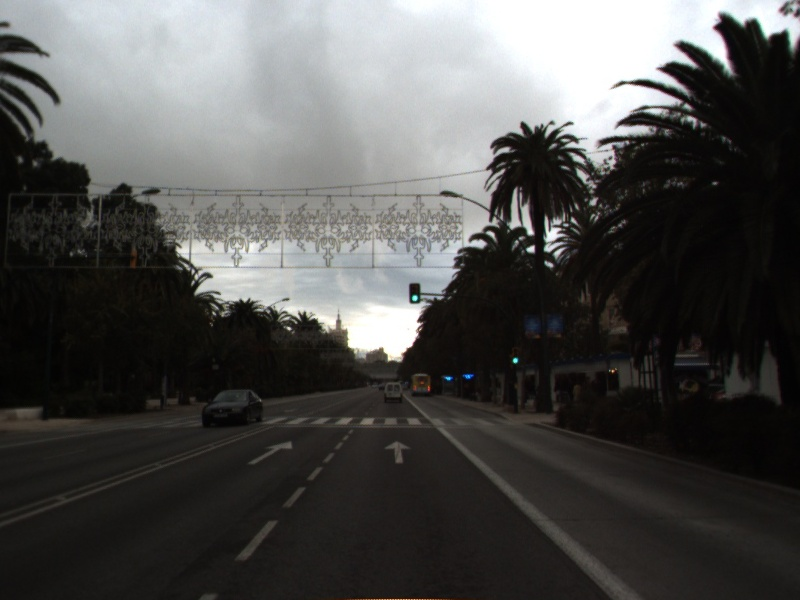STRAIGHT: (245, 438, 295, 467), (382, 438, 413, 465)
